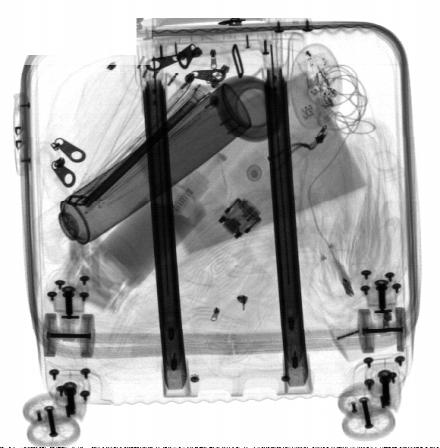Sprayer: (35, 83, 251, 262)
